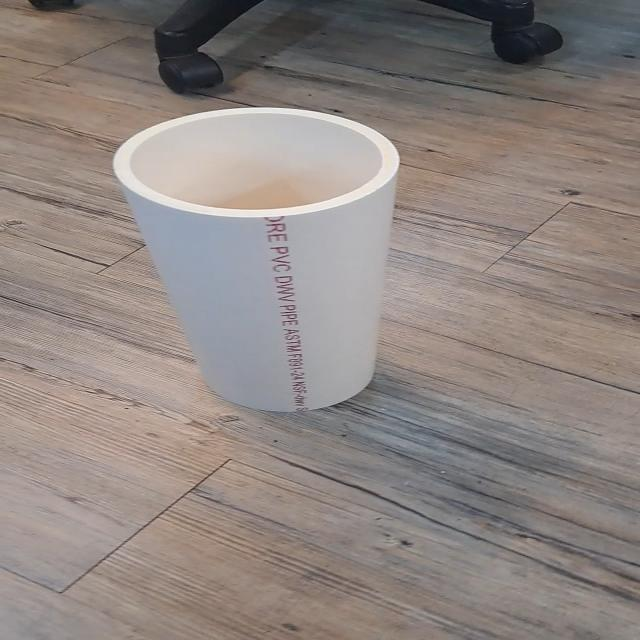CORAL: (101, 105, 412, 421)
